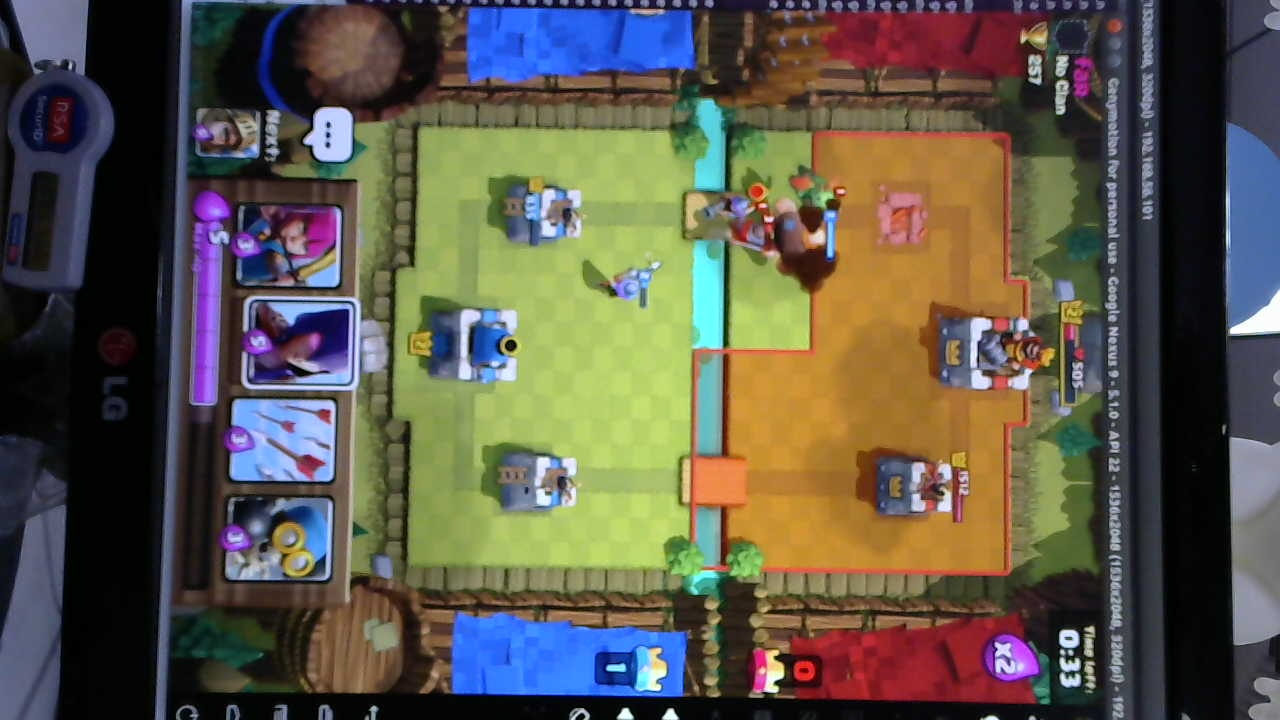arena: (497, 446, 584, 517), (502, 177, 587, 244)
dragon: (794, 171, 841, 213)
earena: (874, 451, 956, 519)
eking: (929, 312, 1046, 393)
giant: (765, 197, 829, 282)
king: (430, 300, 525, 388)
knight: (726, 219, 776, 248)
musketeer: (600, 267, 644, 305), (703, 193, 753, 222)
